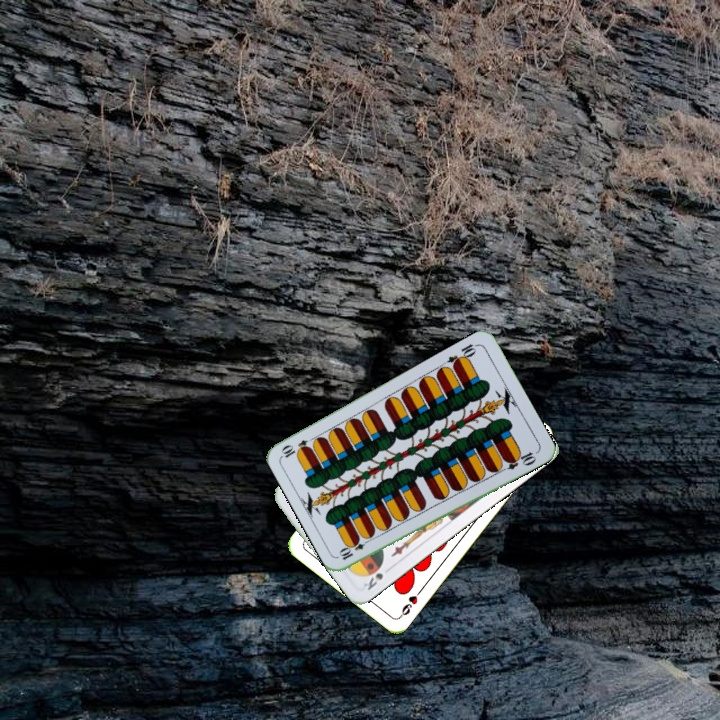E10: (443, 340, 481, 370), (335, 534, 373, 563)
H9: (396, 585, 425, 620)
SK: (359, 562, 386, 593)
